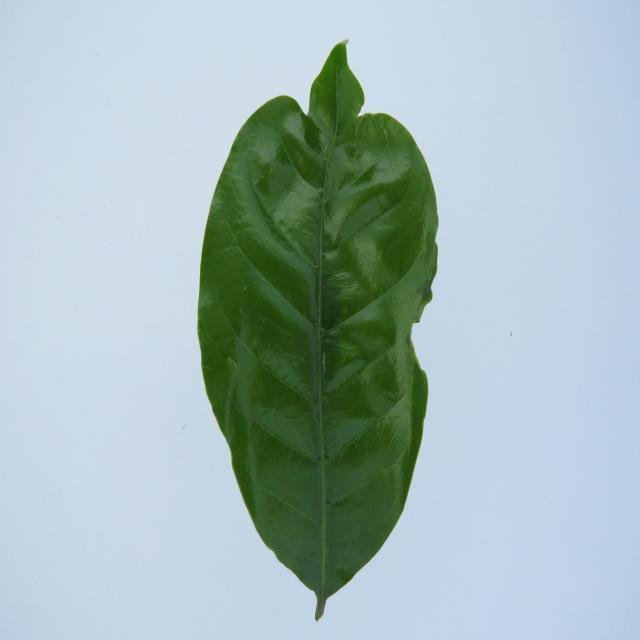DeficienciaNutricional-Calcio: (198, 42, 438, 618)
